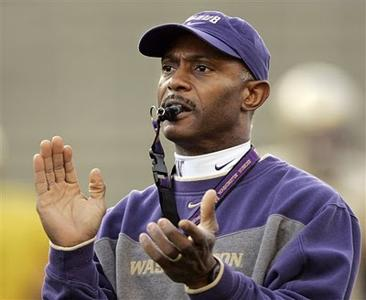person: (31, 10, 361, 300)
